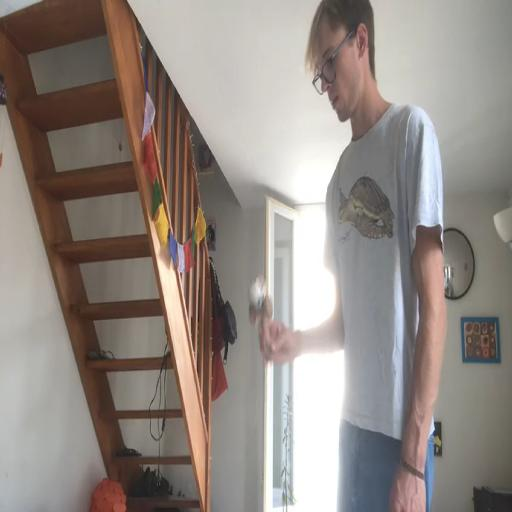kendama_ball: (248, 274, 266, 310)
